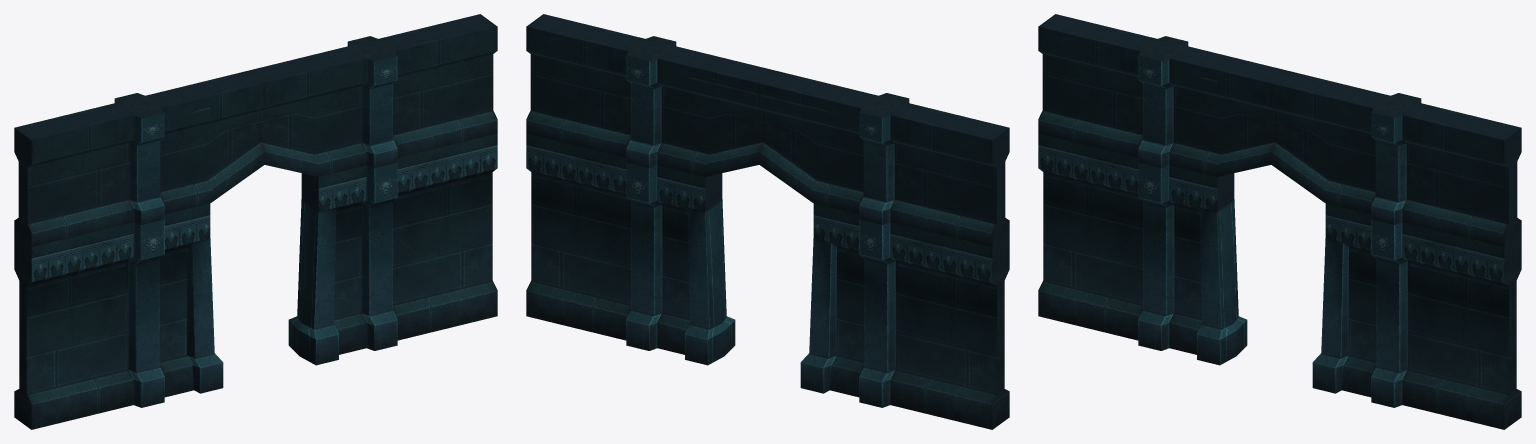
File: SM_DoorLarge.FBX
3 views of the same model, side by side, from view 1: azimuth 30°, elevation 25°; view 2: azimuth 150°, elevation 25°; view 3: azimuth 330°, elevation 25° (orthographic).
Parts seen in each view (by area): view 1: SM_DoorLarge; view 2: SM_DoorLarge; view 3: SM_DoorLarge.
Boxes of the visible parts, x1,y1,x2,y2 form: SM_DoorLarge: (14,14,497,429); SM_DoorLarge: (526,14,1009,429); SM_DoorLarge: (1038,14,1521,429).
Size of the model in its own units: 1600 by 950 by 162.
